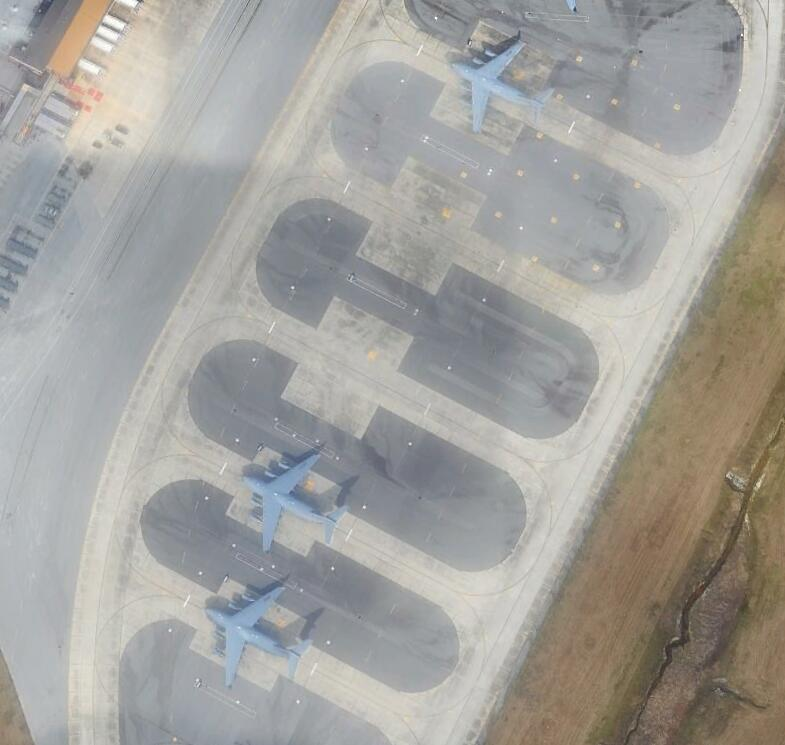A3: (202, 583, 314, 689), (242, 449, 349, 553), (449, 38, 555, 135)
